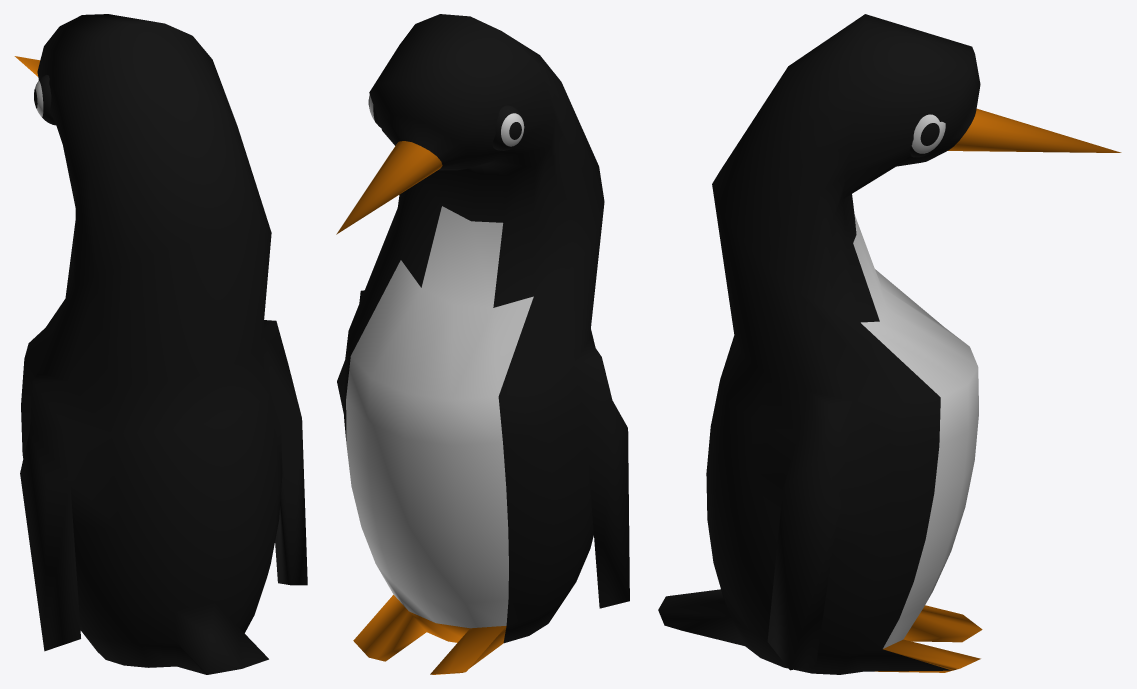
File: penguin.fbx
3 renders of one model, left to right at view 1: azimuth 30°, elevation 25°; view 2: azimuth 150°, elevation 25°; view 3: azimuth 270°, elevation 25°, orthographic. The views are drawn at different scales.
Visible parts, largest first — view 1: Sphere, Sphere.001; view 2: Sphere, Sphere.001; view 3: Sphere, Sphere.002.
Part boxes in pixels (box(x1,y1,x2,y2)): Sphere: box(14, 14, 307, 674); Sphere.001: box(34, 75, 56, 125); Sphere: box(336, 14, 629, 674); Sphere.001: box(492, 105, 524, 150); Sphere: box(658, 14, 1121, 674); Sphere.002: box(909, 114, 946, 157).
Bounding box in the file's own units: 5.7 × 12.4 × 8.35.
